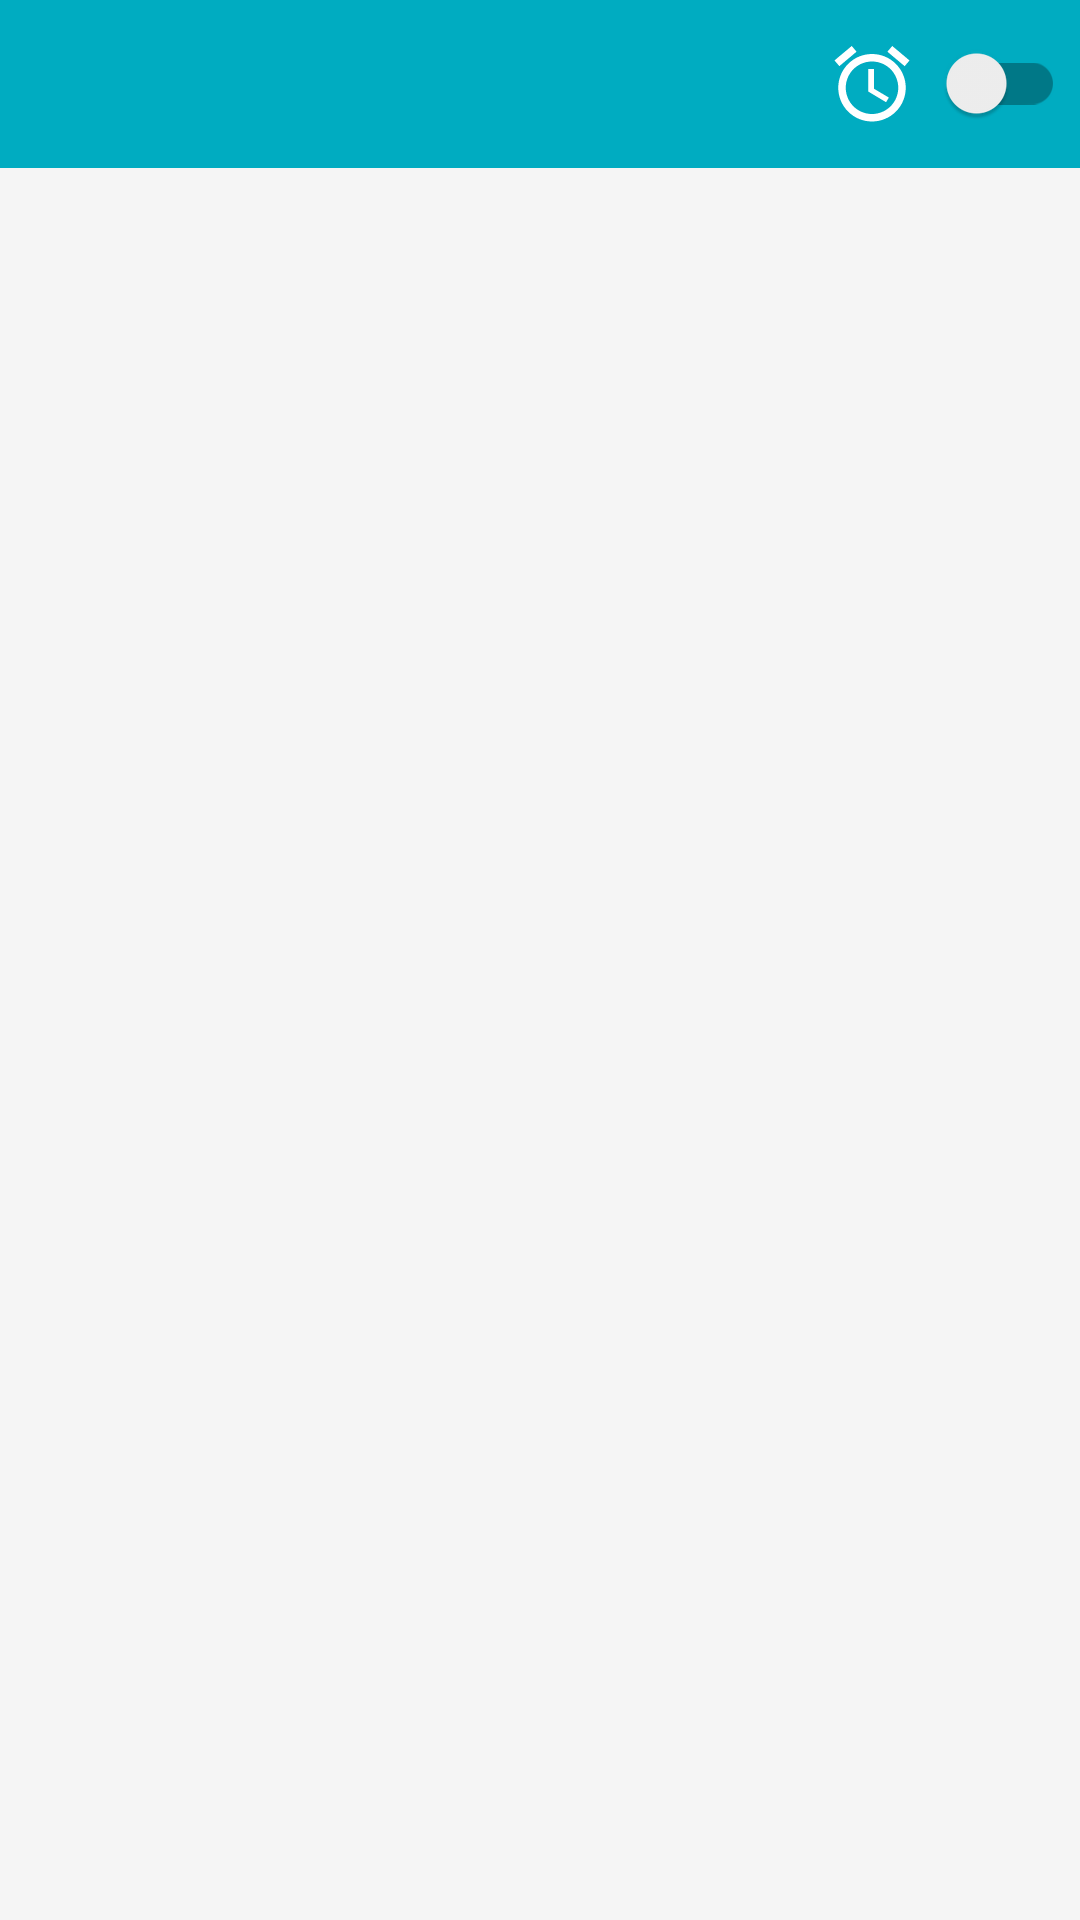

Where icons sit on this 1080*1920 app screen, as (x1, y1, x2, y2):
alarm: (834, 46, 910, 122)
